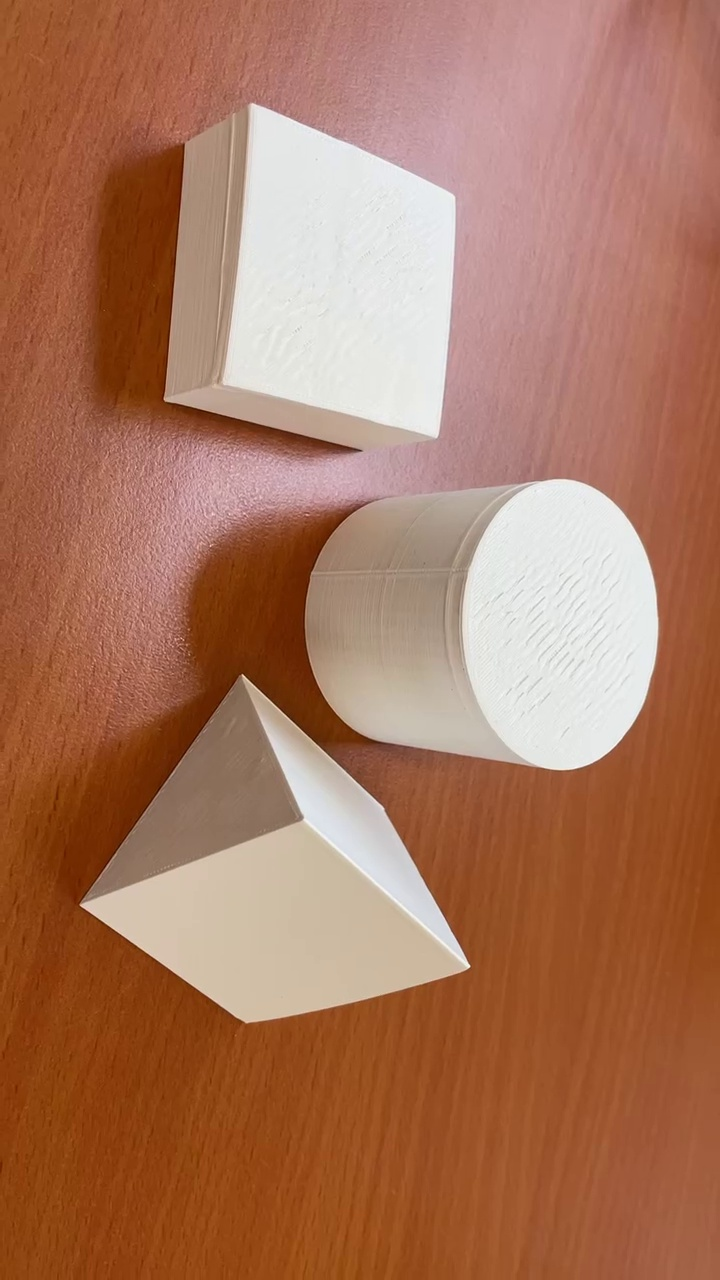Cube_short: (156, 104, 460, 449)
Cylinder: (301, 474, 661, 768)
Triangle: (75, 671, 472, 1026)
